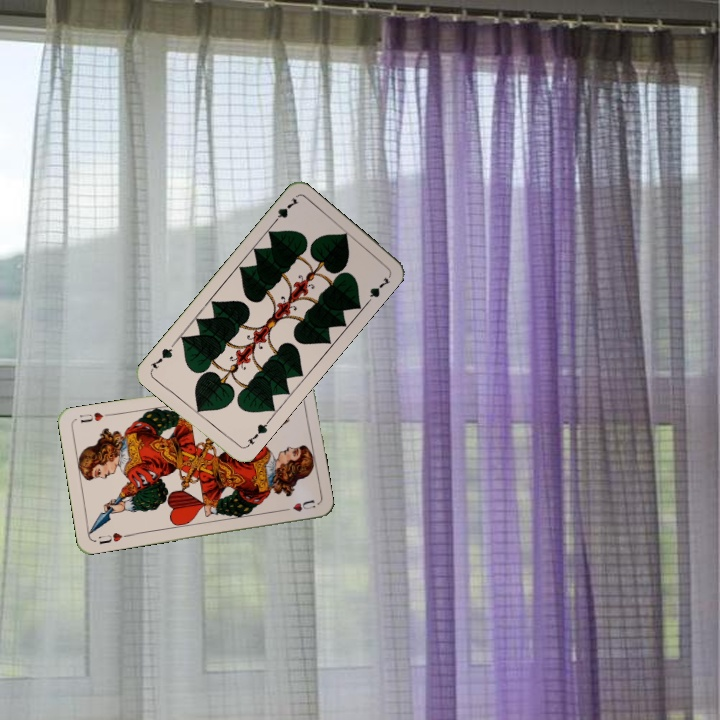G7: (268, 193, 301, 227), (241, 417, 272, 450)
HU: (95, 529, 132, 547)
